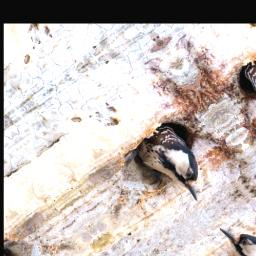Woodpecker: (129, 120, 223, 212)
